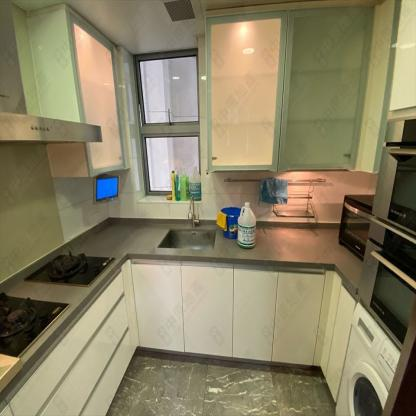Cupboard: (0, 259, 353, 415), (207, 5, 372, 174)
Exhaust Hood: (0, 0, 101, 144)
Faucet: (182, 194, 199, 222)
Sink: (156, 229, 217, 251)
Stove: (1, 291, 69, 359), (24, 251, 115, 285)
